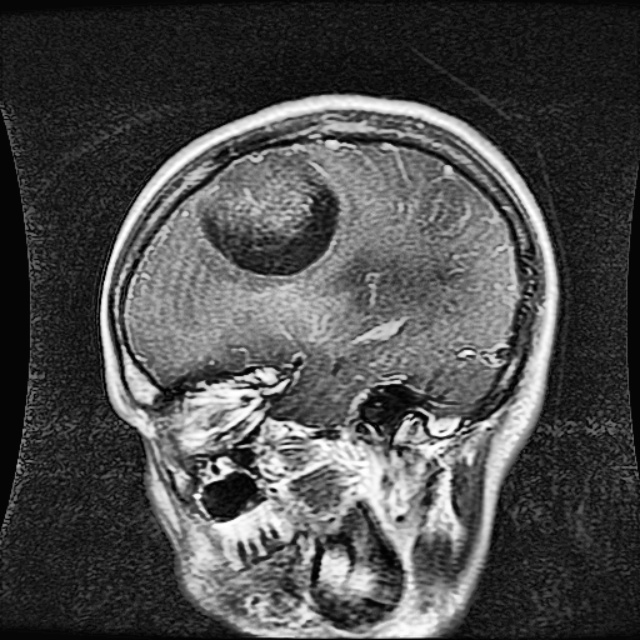Meningioma: (202, 157, 343, 268)
